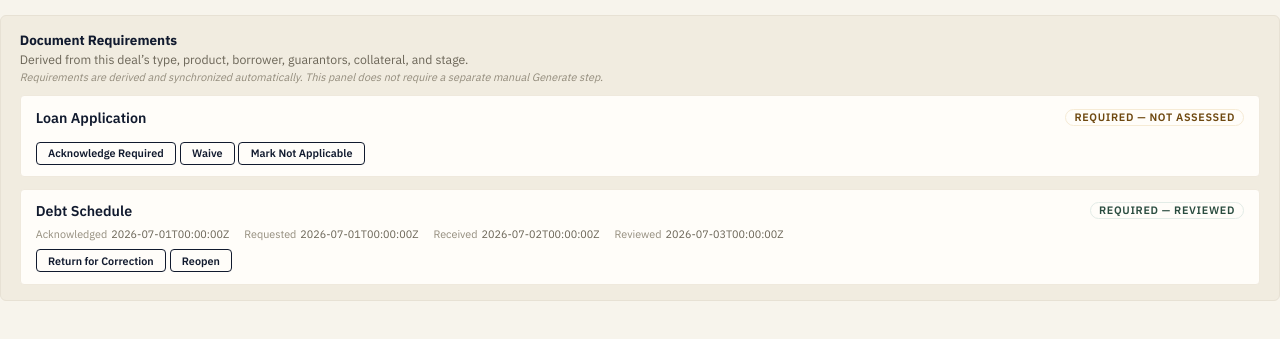
Scenario: DocumentRequirementWorkspace › fail-visible: a governance-partial outcome is shown to the banker
Check: the text "Loan Application" is shown, box [36,108,146,127]
Click the button "Acknowledge Required": (106, 153) [36,142,176,165]
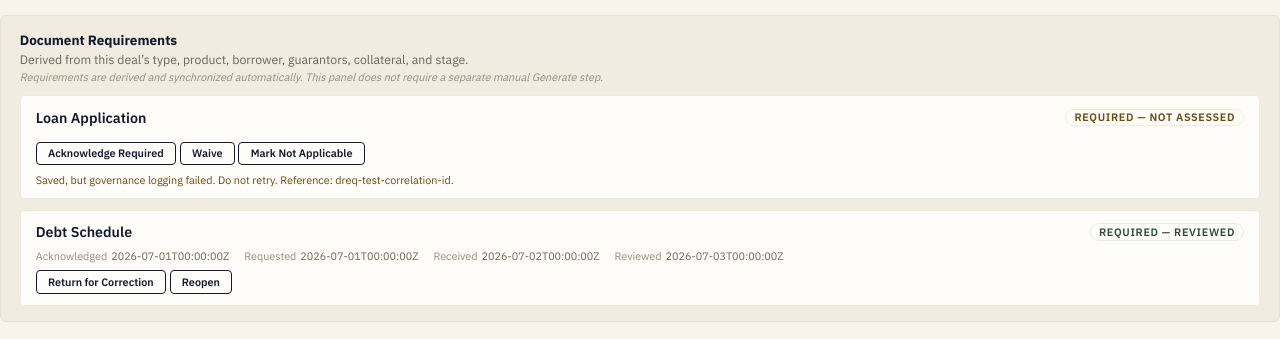
Check: the message shows "governance logging failed", box [36,173,454,187]
